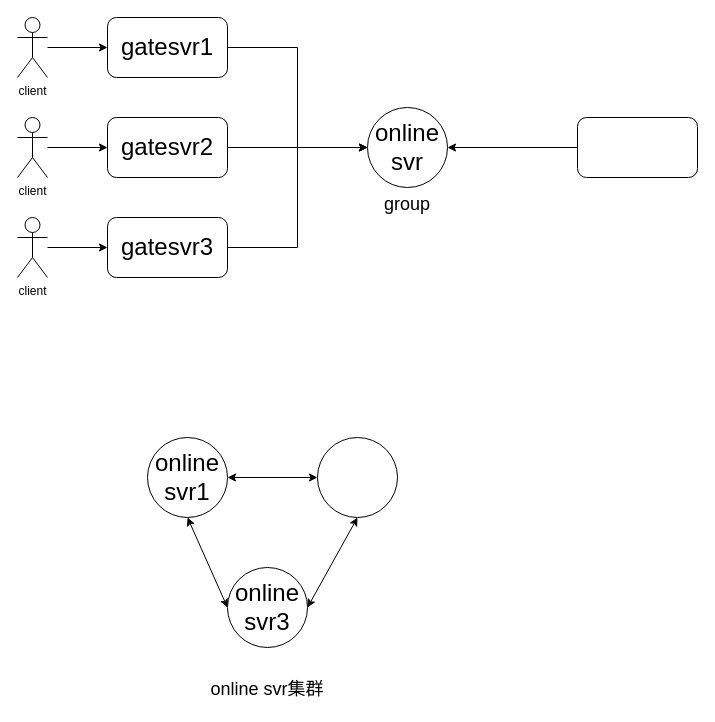
The diagram is 715 pixels wide and 722 high, and some of its shapes have lost their labels. Each missing label, with the box of its shape:
online svr2: (316, 436, 398, 518)
other svr: (576, 116, 698, 178)
